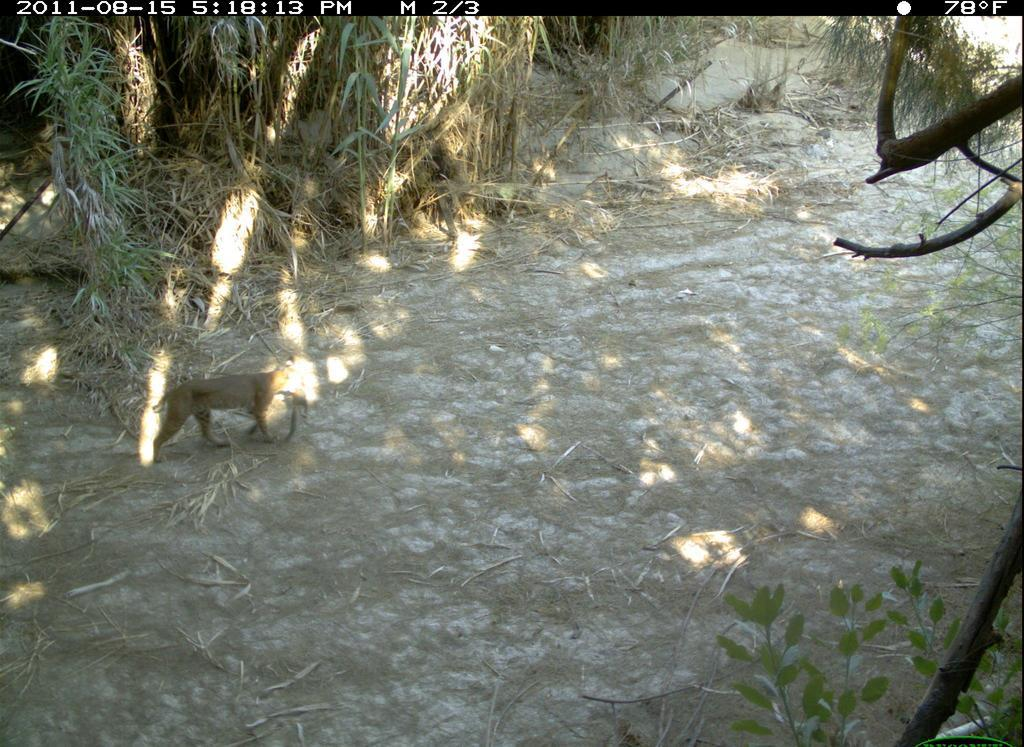bobcat: (150, 353, 322, 470)
